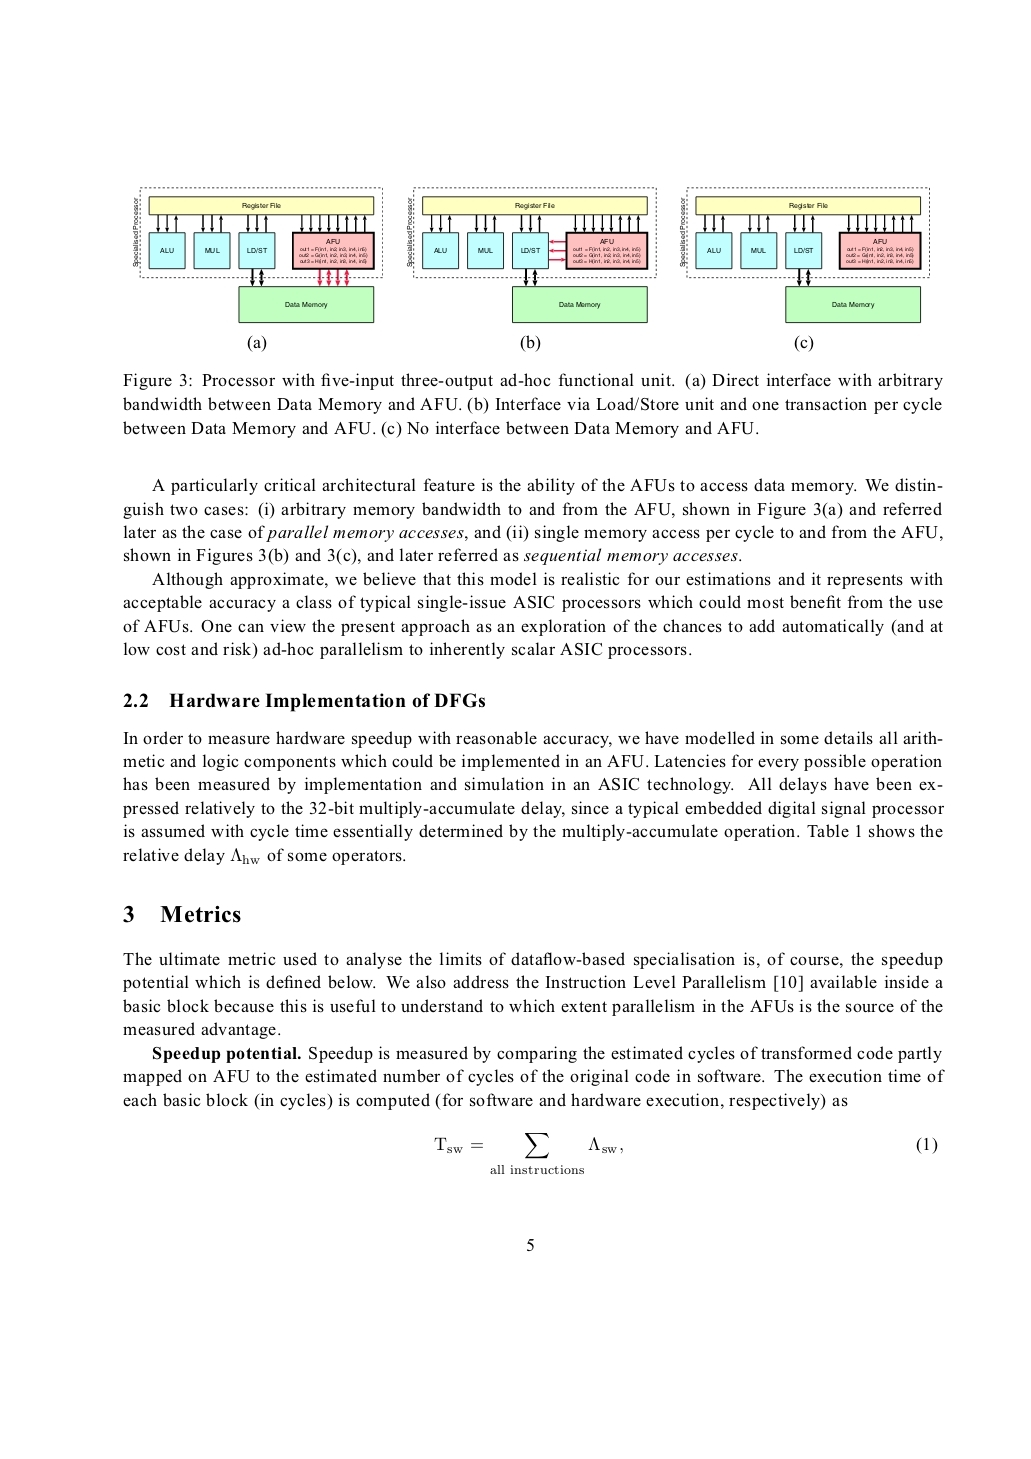figure: (132, 187, 382, 323), (406, 187, 656, 323), (680, 187, 929, 323)
formula: (434, 1133, 937, 1173)
